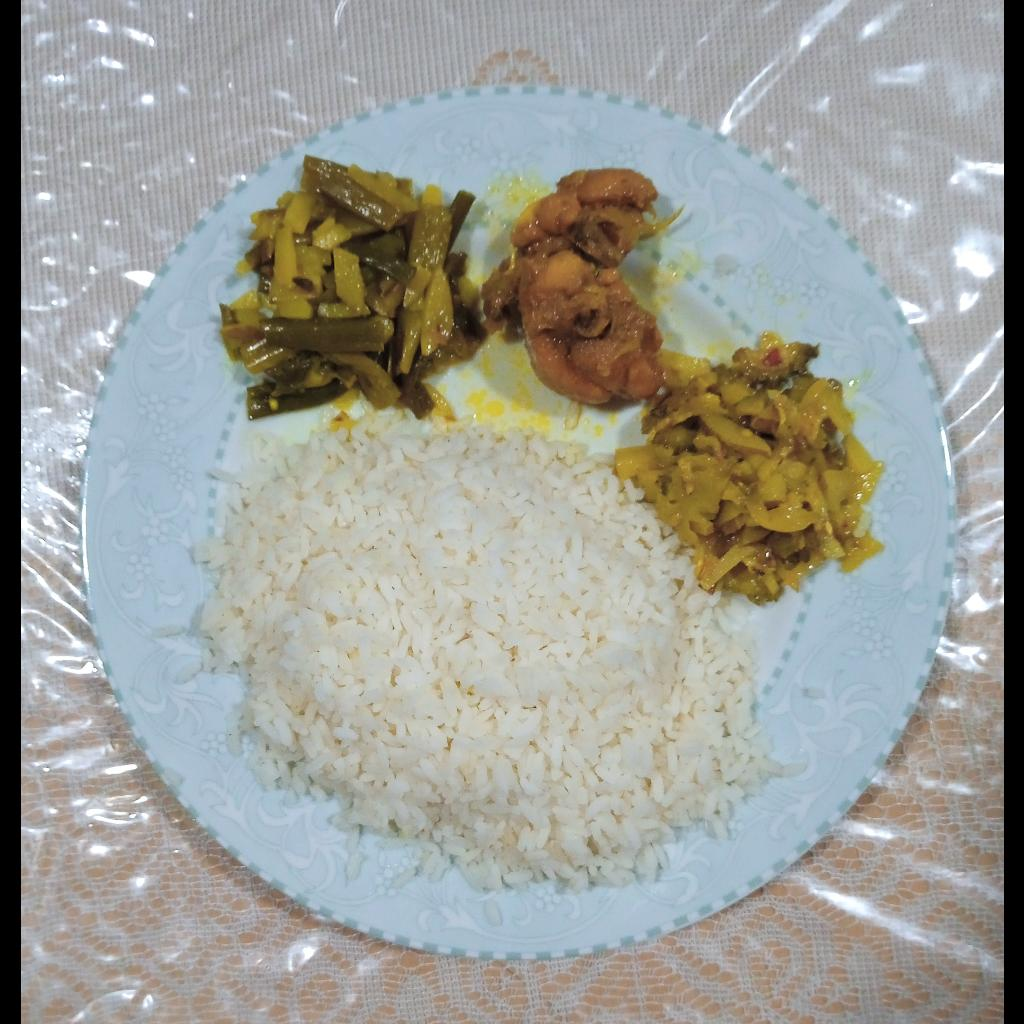cabbage: (626, 340, 877, 580)
chicken: (498, 174, 663, 410)
rice: (196, 416, 783, 888)
vegetable: (226, 160, 473, 408)
